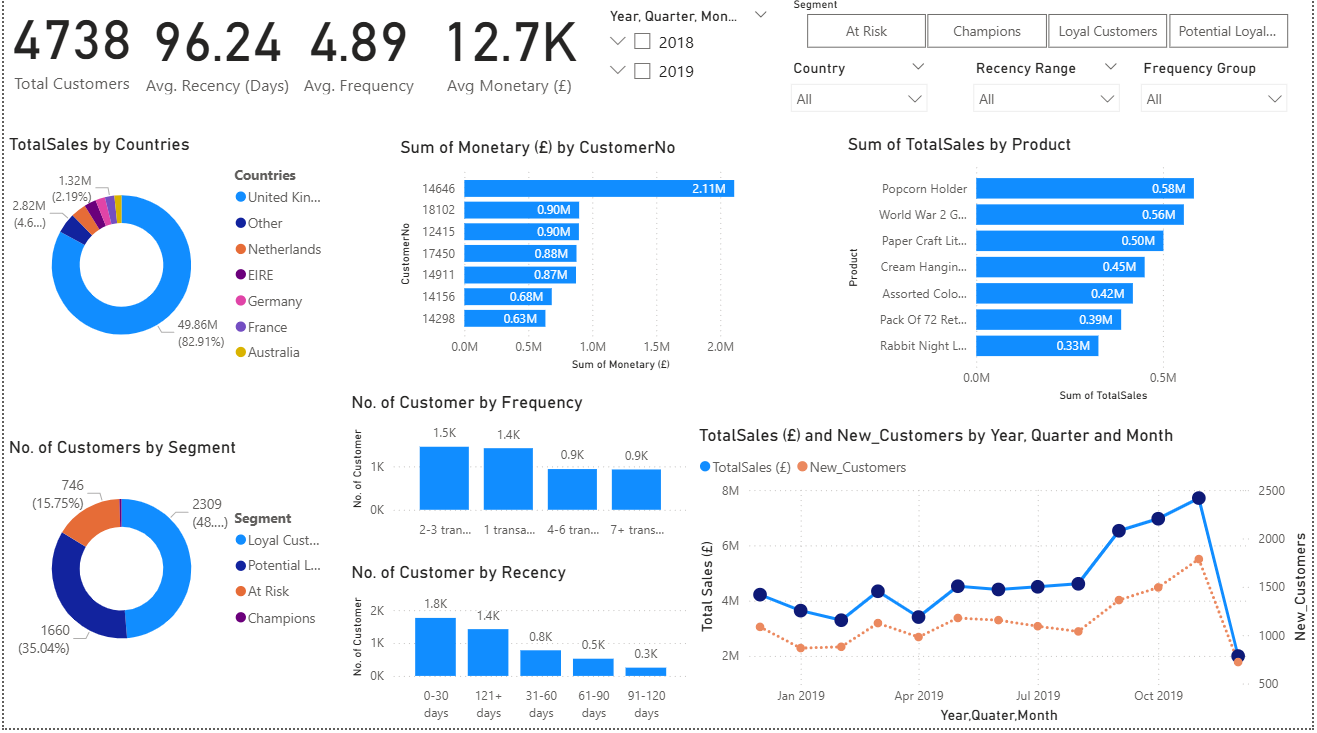

The dashboard page shown, as its layout file describes it:
{"tool":"powerbi","page":{"name":"Page 1","canvas":[1280,720],"ordinal":0},"visuals":[{"type":"card","fields":{"Values":["eda_done_cleaned_data.Total Customers"]},"box":[0,0,133.3,100.3],"z":0},{"type":"card","fields":{"Values":["Avg(rfm_final_cleaned_data.Recency)"]},"box":[133.3,0,151.6,105.2],"z":1000},{"type":"card","fields":{"Values":["Avg(rfm_final_cleaned_data.Frequency)"]},"box":[284.9,0,124.7,105.2],"z":2000},{"type":"card","fields":{"Values":["Avg(rfm_final_cleaned_data.Monetary)"]},"box":[409.6,0,170,105.2],"z":3000},{"type":"pieChart","fields":{"Category":["rfm_final_cleaned_data.Segment"],"Y":["CountNonNull(rfm_final_cleaned_data.CustomerNo)"]},"box":[0,435.3,325.3,237.2],"z":4000},{"type":"barChart","fields":{"Y":["Sum(rfm_final_cleaned_data.Monetary)"],"Category":["rfm_final_cleaned_data.CustomerNo"]},"box":[382.7,141.8,392.5,233.6],"z":5000},{"type":"lineChart","fields":{"Y":["Sum(eda_done_cleaned_data.TotalSales)"],"Category":["eda_done_cleaned_data.Date.Variation.Date Hierarchy.Year","eda_done_cleaned_data.Date.Variation.Date Hierarchy.Quarter","eda_done_cleaned_data.Date.Variation.Date Hierarchy.Month"],"Y2":["rfm_final_cleaned_data.New_Customers"]},"box":[675,423.1,605.3,297.1],"z":6000},{"type":"clusteredBarChart","fields":{"Category":["eda_done_cleaned_data.ProductName"],"Y":["Sum(eda_done_cleaned_data.TotalSales)"]},"box":[820.5,138.2,398.6,267.8],"z":7000},{"type":"donutChart","fields":{"Y":["Sum(eda_done_cleaned_data.TotalSales)"],"Category":["eda_done_cleaned_data.Country (groups)"]},"box":[0,138.2,325.3,237.2],"z":8000},{"type":"columnChart","fields":{"Category":["rfm_final_cleaned_data.Recency Range"],"Y":["CountNonNull(rfm_final_cleaned_data.CustomerNo)"]},"box":[335.1,557.6,339.9,162.6],"z":9000},{"type":"columnChart","fields":{"Category":["rfm_final_cleaned_data.Frequency Group"],"Y":["CountNonNull(rfm_final_cleaned_data.CustomerNo)"]},"box":[335.1,391.3,339.9,150.4],"z":10000},{"type":"slicer","fields":{"Values":["eda_done_cleaned_data.Year","eda_done_cleaned_data.Quarter","eda_done_cleaned_data.Month"]},"box":[579.6,9.8,179.8,90.5],"z":11000},{"type":"slicer","fields":{"Values":["rfm_final_cleaned_data.Segment"]},"box":[759.4,0,520.9,61.1],"z":12000},{"type":"slicer","fields":{"Values":["eda_done_cleaned_data.Country"]},"box":[759.4,61.1,154.1,80.7],"z":13000},{"type":"slicer","fields":{"Values":["rfm_final_cleaned_data.Recency Range"]},"box":[937.9,61.1,163.9,80.7],"z":14000},{"type":"slicer","fields":{"Values":["rfm_final_cleaned_data.Frequency Group"]},"box":[1101.8,61.1,163.9,80.7],"z":15000}]}

Visuals, with their boxes in screenshot pixels (x1, y1, x2, y2), scaled from the page's 1280x720 canvas onto the 1317x733 screenshot:
card - eda_done_cleaned_data.Total Customers: 0:0:137:102
card - Avg(rfm_final_cleaned_data.Recency): 137:0:293:107
card - Avg(rfm_final_cleaned_data.Frequency): 293:0:421:107
card - Avg(rfm_final_cleaned_data.Monetary): 421:0:596:107
pieChart - rfm_final_cleaned_data.Segment x CountNonNull(rfm_final_cleaned_data.CustomerNo): 0:443:335:685
barChart - Sum(rfm_final_cleaned_data.Monetary) x rfm_final_cleaned_data.CustomerNo: 394:144:798:382
lineChart - Sum(eda_done_cleaned_data.TotalSales) x eda_done_cleaned_data.Date.Variation.Date Hierarchy.Year: 695:431:1316:732
clusteredBarChart - eda_done_cleaned_data.ProductName x Sum(eda_done_cleaned_data.TotalSales): 844:141:1254:413
donutChart - Sum(eda_done_cleaned_data.TotalSales) x eda_done_cleaned_data.Country (groups): 0:141:335:382
columnChart - rfm_final_cleaned_data.Recency Range x CountNonNull(rfm_final_cleaned_data.CustomerNo): 345:568:695:732
columnChart - rfm_final_cleaned_data.Frequency Group x CountNonNull(rfm_final_cleaned_data.CustomerNo): 345:398:695:551
slicer - eda_done_cleaned_data.Year x eda_done_cleaned_data.Quarter: 596:10:781:102
slicer - rfm_final_cleaned_data.Segment: 781:0:1316:62
slicer - eda_done_cleaned_data.Country: 781:62:940:144
slicer - rfm_final_cleaned_data.Recency Range: 965:62:1134:144
slicer - rfm_final_cleaned_data.Frequency Group: 1134:62:1302:144
